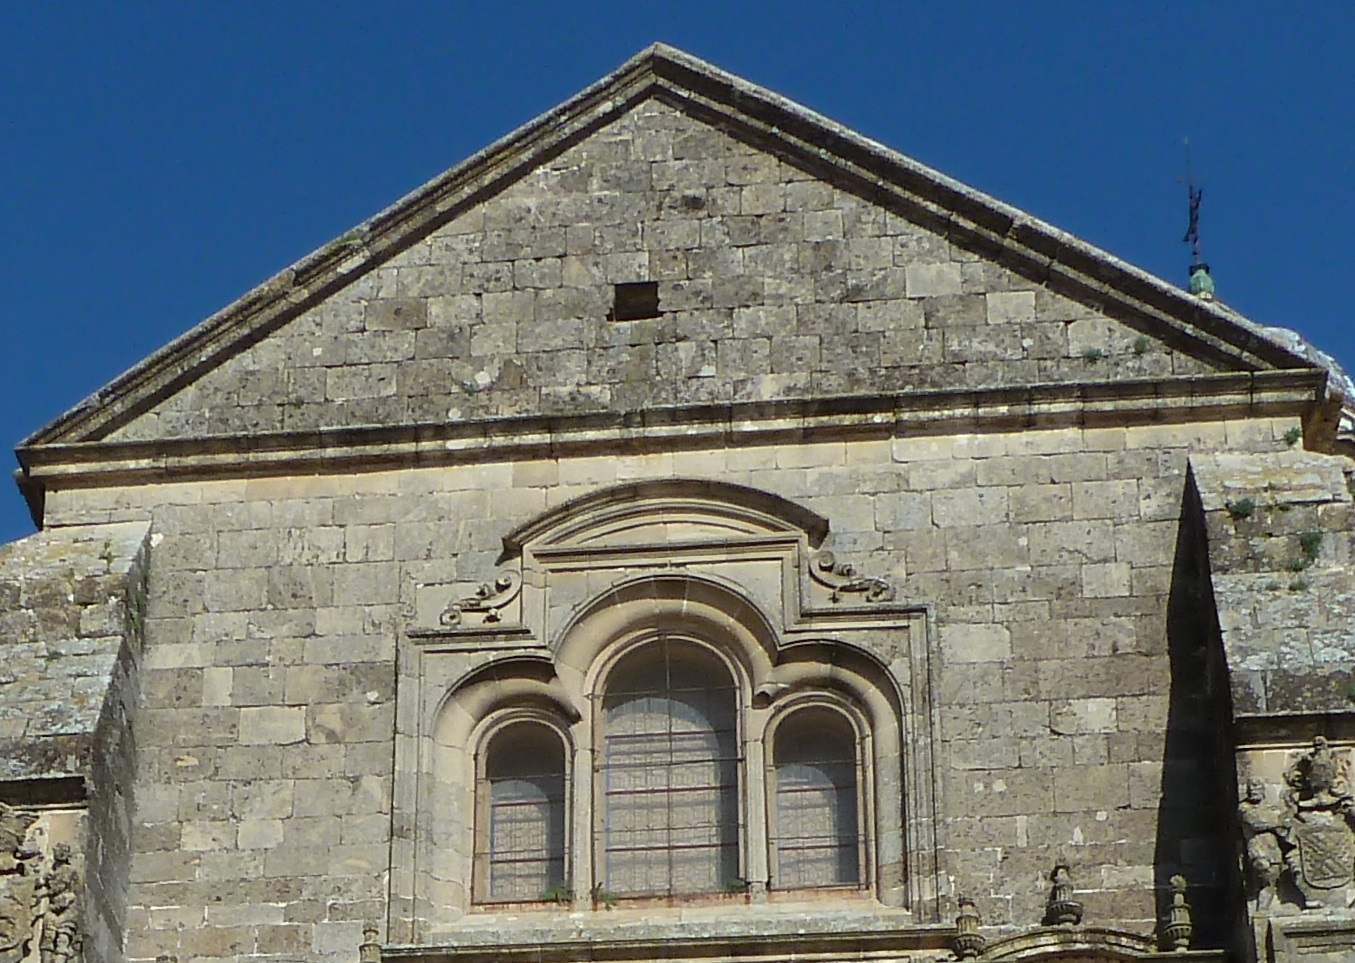fronton: (10, 33, 1334, 476)
fronton-curvo: (495, 473, 841, 563)
